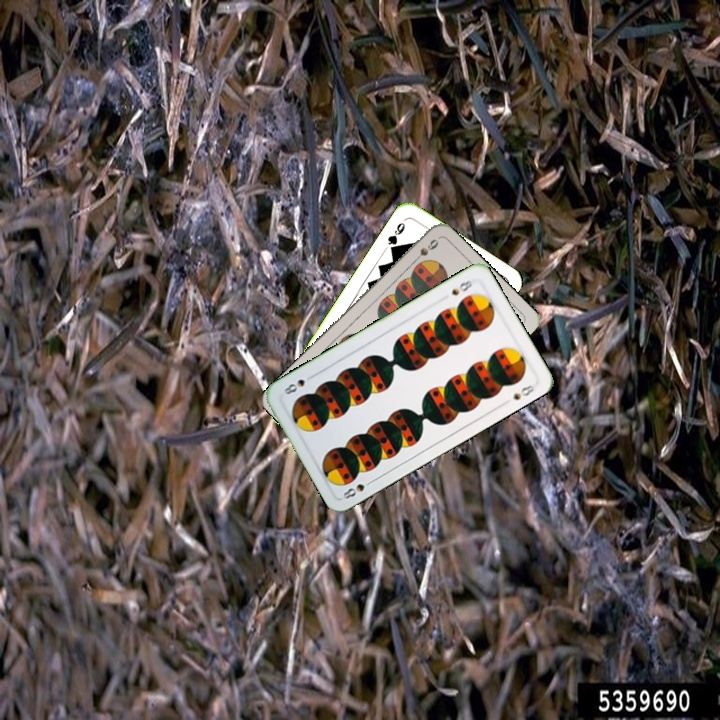G9: (383, 215, 409, 254)
S8: (339, 475, 377, 502), (447, 276, 475, 298)
S9: (408, 235, 441, 267)
